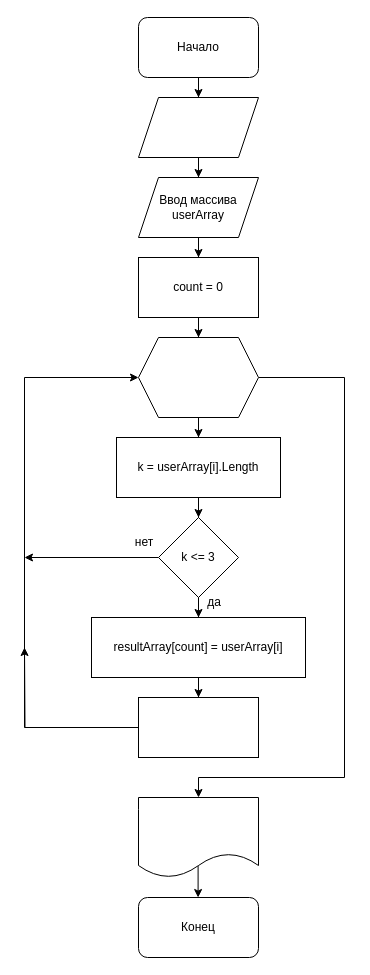
Some shapes in this 370 by 975 pixel diagram are drawn without their labels. Each missing label, with the box of its shape:
count = count + 1: (138, 696, 258, 758)
i = 0, N-1,1: (138, 336, 258, 418)
Ввод длины массива N: (138, 96, 258, 158)
Вывод массива resultArray: (138, 796, 258, 878)
